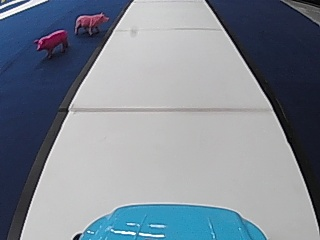pig: (32, 27, 69, 59), (72, 10, 107, 36)
